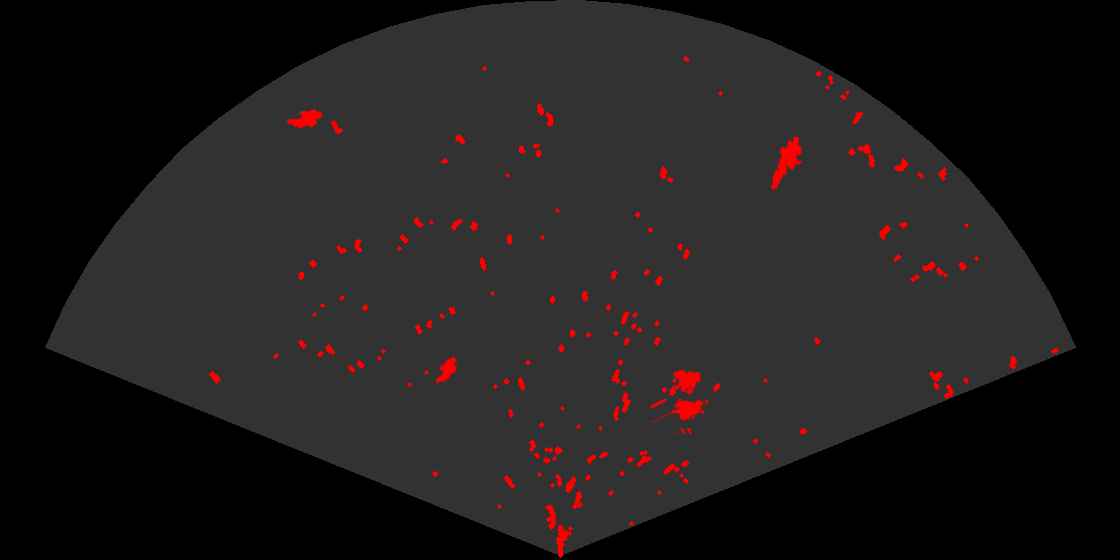AUV: (285, 107, 325, 130), (434, 355, 459, 385)
cage: (651, 368, 710, 434)
frogman: (769, 137, 804, 192)
